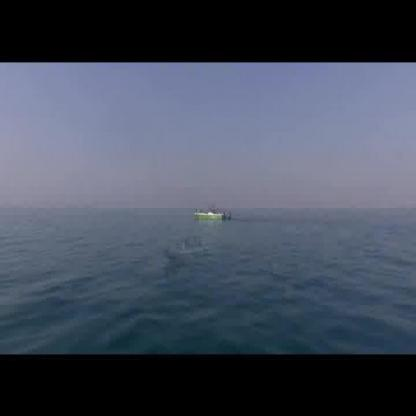Boat: (191, 201, 233, 227)
